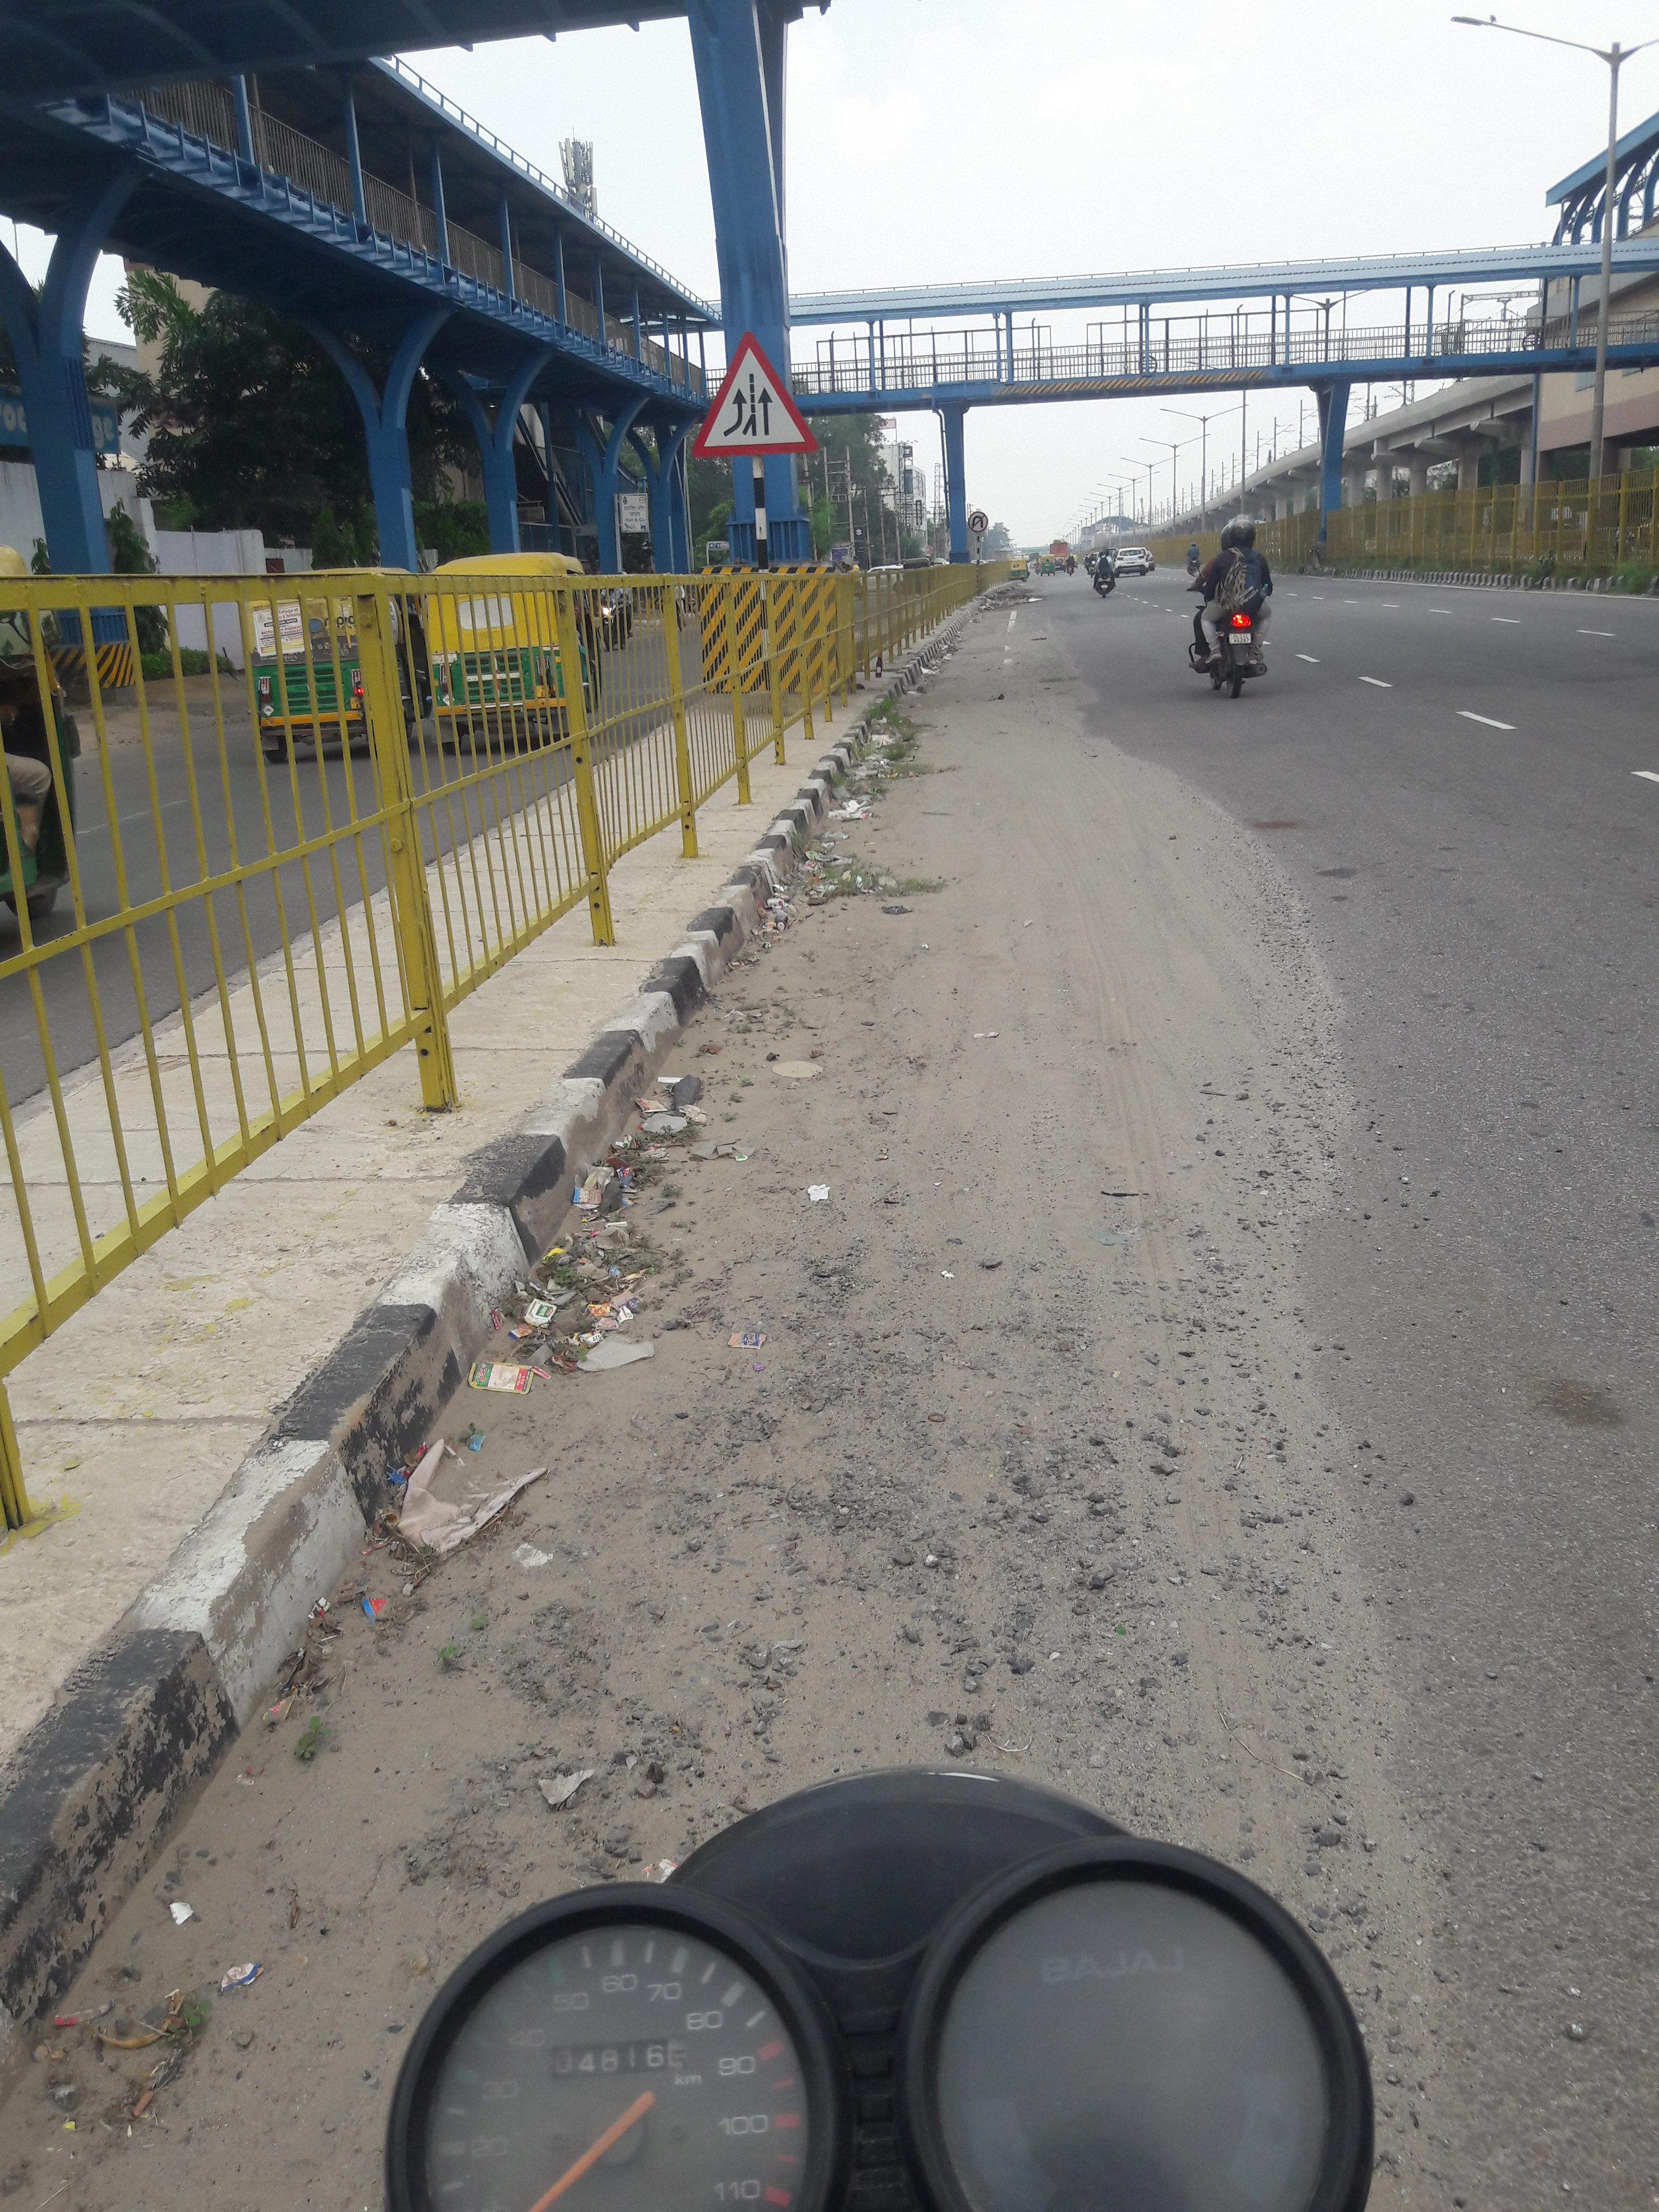traffic_sign: (692, 331, 819, 456)
